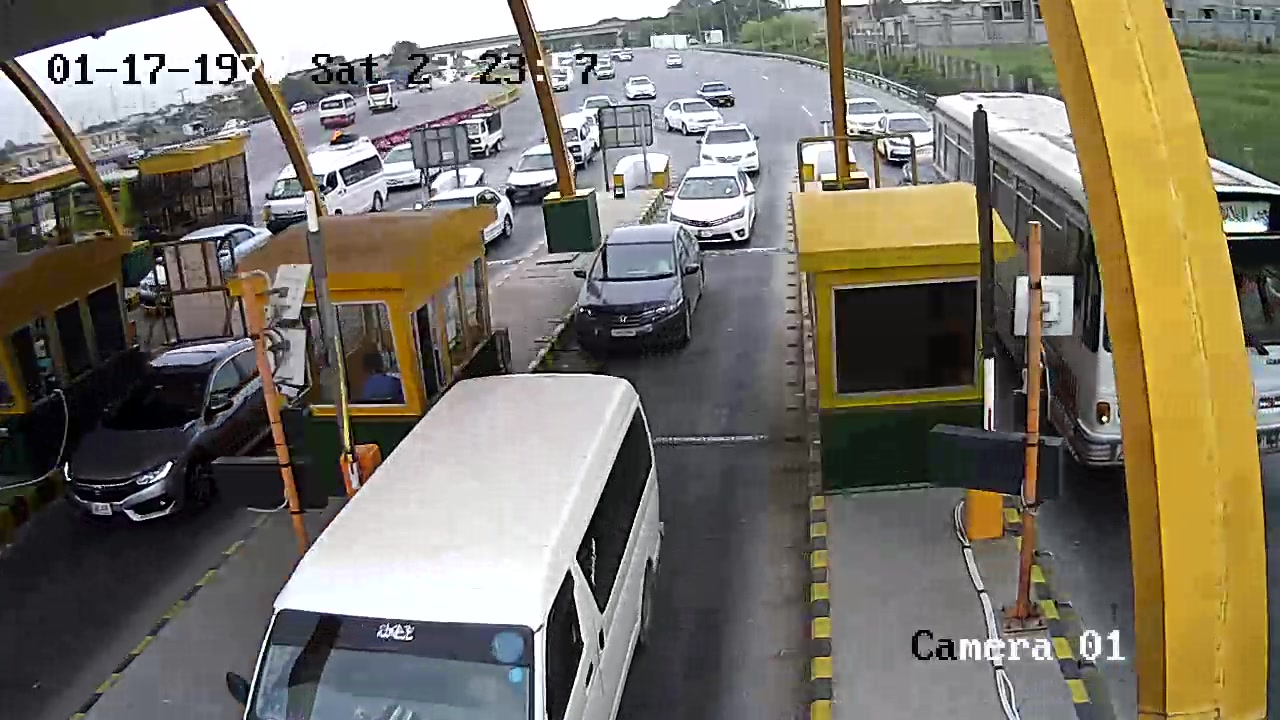F1: (565, 225, 699, 360)
